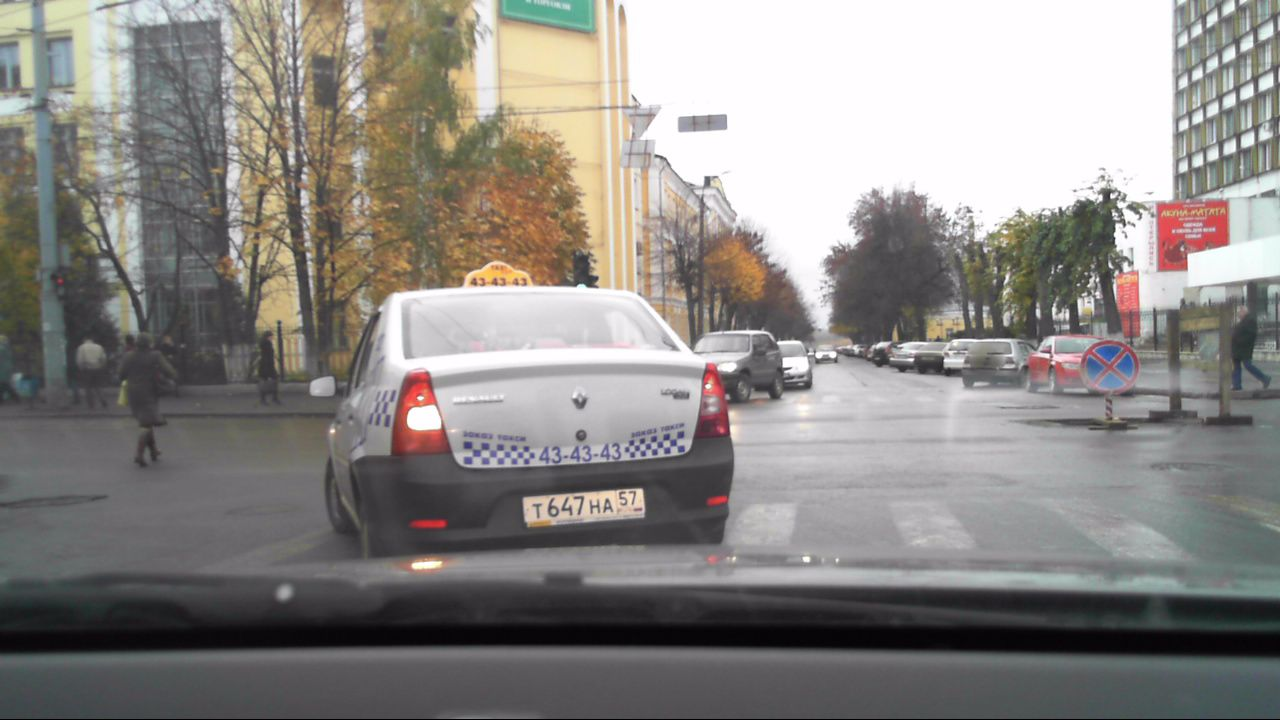No Parking: (1074, 337, 1140, 398)
